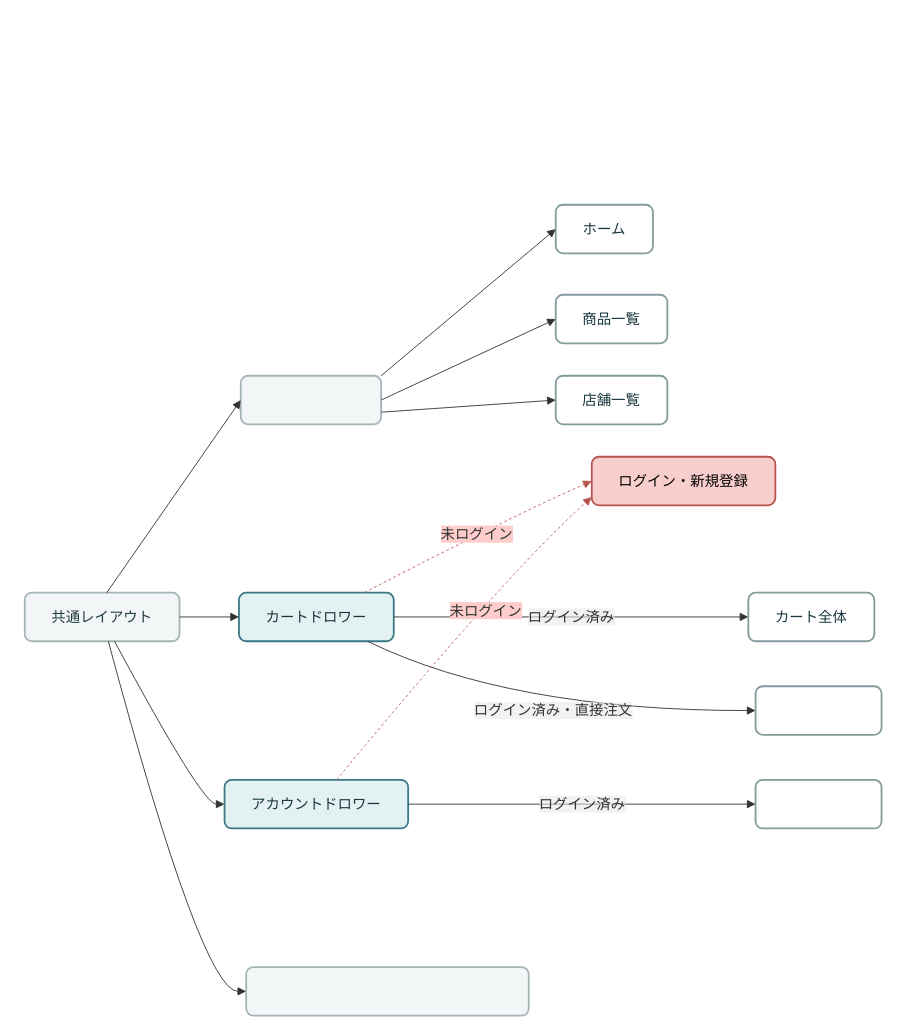
Image size: 897x1031. Some labels were removed from this diagram. Here are the shapes that lost their labels. From the top down, the centre of each, then its label:
At point (310, 399): "ヘッダー中央".
At point (818, 710): "注文確認".
At point (818, 803): "注文履歴".
At point (387, 991): "共通フッター（MVP段階はクリック不可）".
